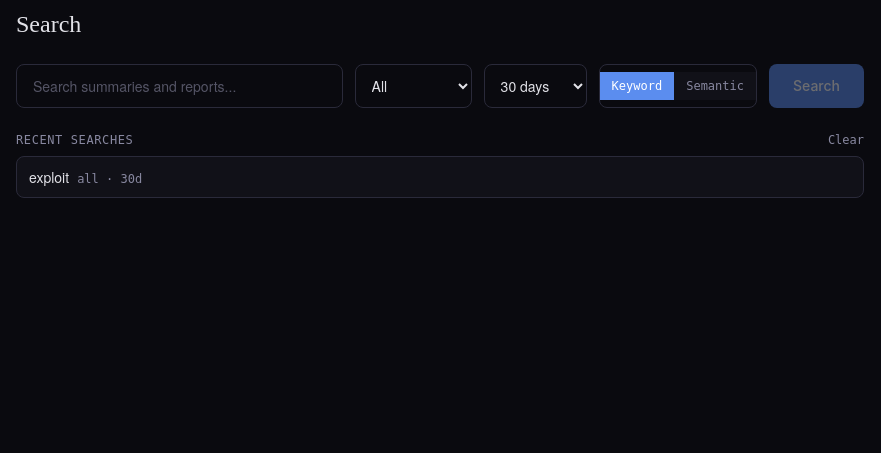
Test: Search › shows a header retry label when the refresh chip refetch fails
Type "exploit" into the field with placeholder "Search summaries and reports..." at [179, 86], box [16,64,343,108]
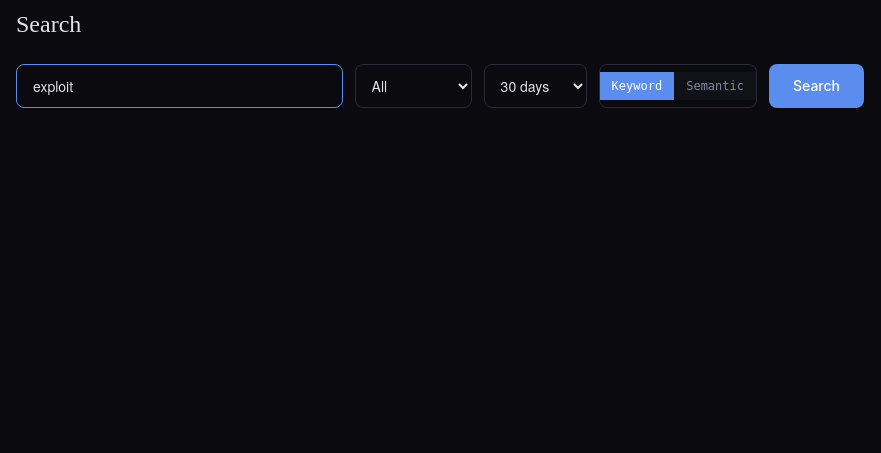
Click the button "Search" at [816, 86], box [769,64,864,108]
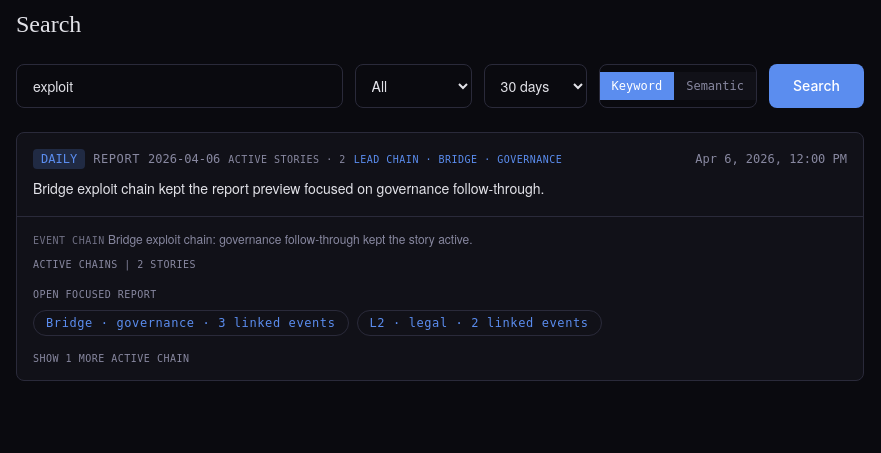
Expected: the button "Active stories · 2" is shown
Click the button "Active stories · 2" at [287, 159], box [228,152,346,166]
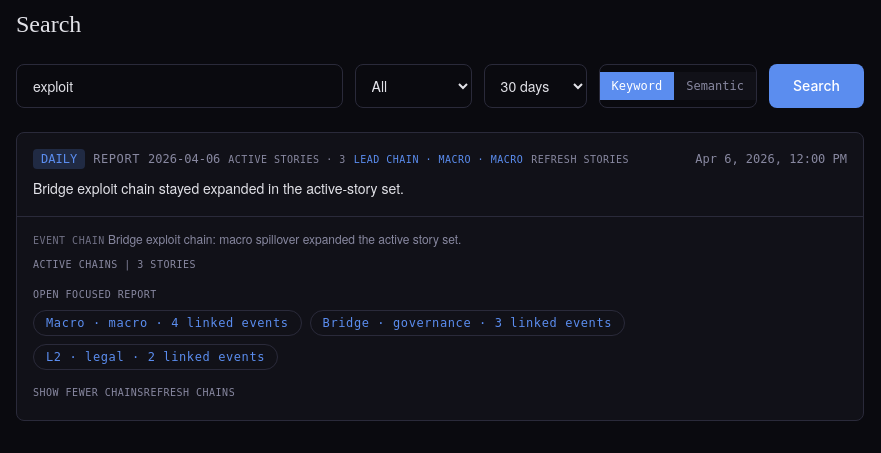
Expected: the button "Refresh stories" is shown
Click the button "Refresh stories" at [580, 159], box [531,152,629,166]
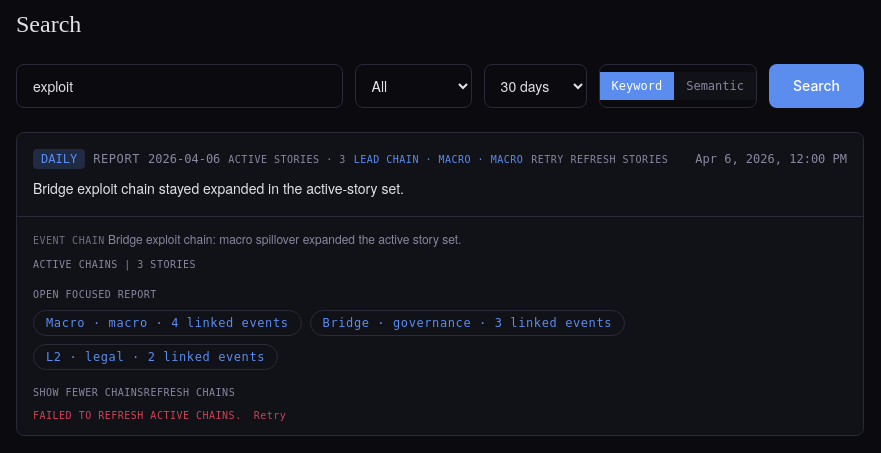
Expected: the button "Retry refresh stories" is shown, [531,152,668,166]
Expected: the text "Failed to refresh active chains." is shown, [33,408,242,423]
